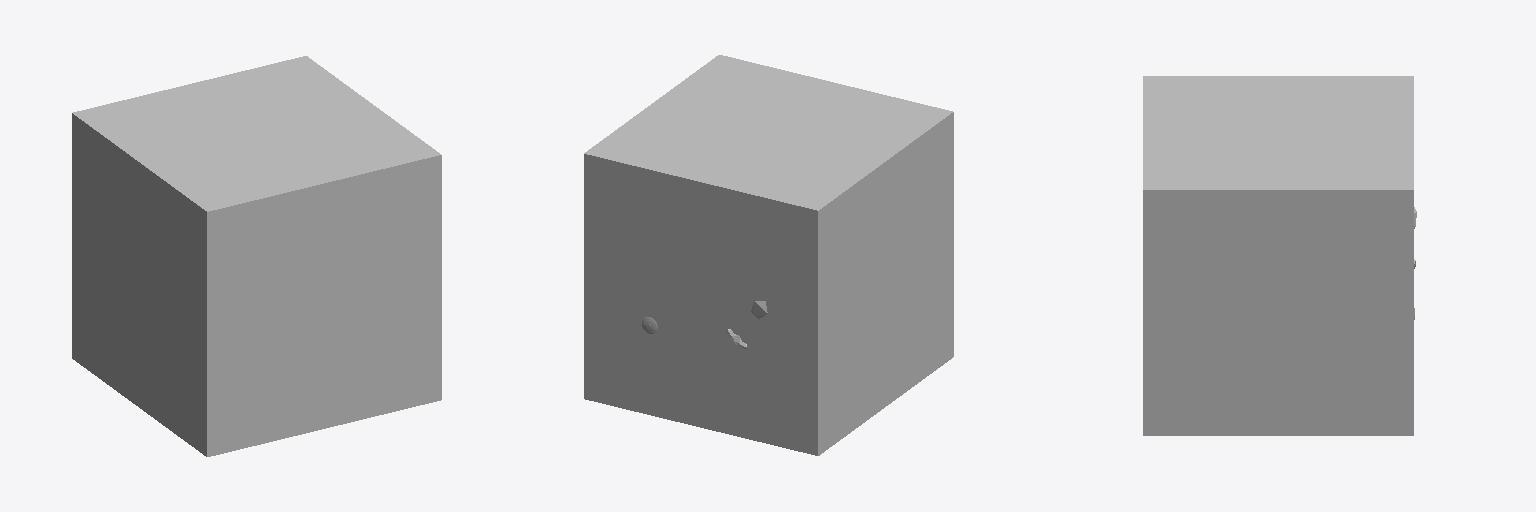
3 renders of one model, left to right at view 1: azimuth 30°, elevation 25°; view 2: azimuth 150°, elevation 25°; view 3: azimuth 270°, elevation 25°, orthographic.
Parts seen in each view (by area): view 1: Cube; view 2: Cube; view 3: Cube.
Part boxes in pixels (x1,y1,x2,y2): Cube: (72, 56, 441, 456); Cube: (584, 55, 953, 455); Cube: (1143, 76, 1413, 435).
Size of the model in its own units: 11.43 by 11.43 by 11.57.